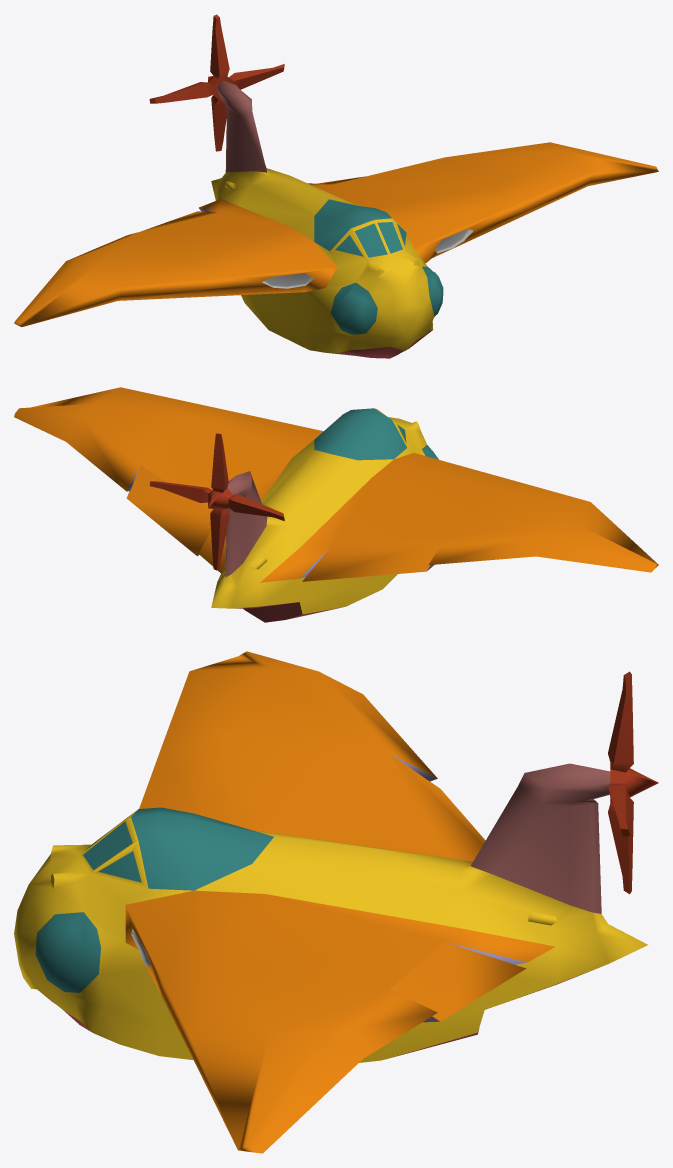
3 renders of one model, top to bottom at view 1: azimuth 30°, elevation 25°; view 2: azimuth 150°, elevation 25°; view 3: azimuth 270°, elevation 25°, orthographic. The views are drawn at different scales.
Visible parts, largest first — view 1: pasted__falcoBody, Propellor; view 2: pasted__falcoBody, Propellor; view 3: pasted__falcoBody, Propellor.
Part boxes in pixels (bbox=[...]): pasted__falcoBody: bbox=[14, 81, 658, 358]; Propellor: bbox=[149, 14, 284, 151]; pasted__falcoBody: bbox=[14, 387, 658, 622]; Propellor: bbox=[149, 433, 284, 570]; pasted__falcoBody: bbox=[14, 651, 647, 1153]; Propellor: bbox=[608, 671, 658, 894].
Size of the model in its own units: 6.77 by 2.45 by 3.73.
